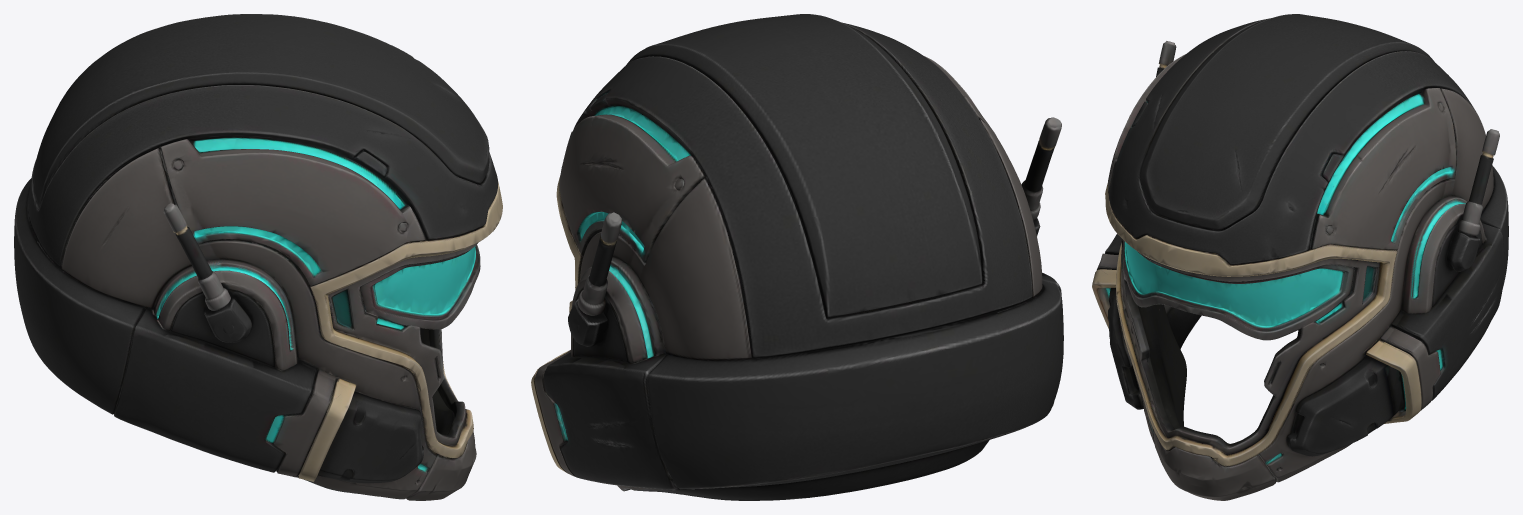
File: helmet.glb
3 renders of one model, left to right at view 1: azimuth 30°, elevation 25°; view 2: azimuth 150°, elevation 25°; view 3: azimuth 270°, elevation 25°, orthographic. The views are drawn at different scales.
Parts seen in each view (by area): view 1: tripo_node_c11f826d-9454-4a3e-8f72-cf6f9c8d2318; view 2: tripo_node_c11f826d-9454-4a3e-8f72-cf6f9c8d2318; view 3: tripo_node_c11f826d-9454-4a3e-8f72-cf6f9c8d2318.
Part boxes in pixels (x1,y1,x2,y2): tripo_node_c11f826d-9454-4a3e-8f72-cf6f9c8d2318: (14, 14, 502, 500); tripo_node_c11f826d-9454-4a3e-8f72-cf6f9c8d2318: (531, 14, 1063, 500); tripo_node_c11f826d-9454-4a3e-8f72-cf6f9c8d2318: (1092, 14, 1508, 500).
Size of the model in its own units: 0.9647 by 0.9805 by 0.9353.
1 material, 1 textured.
